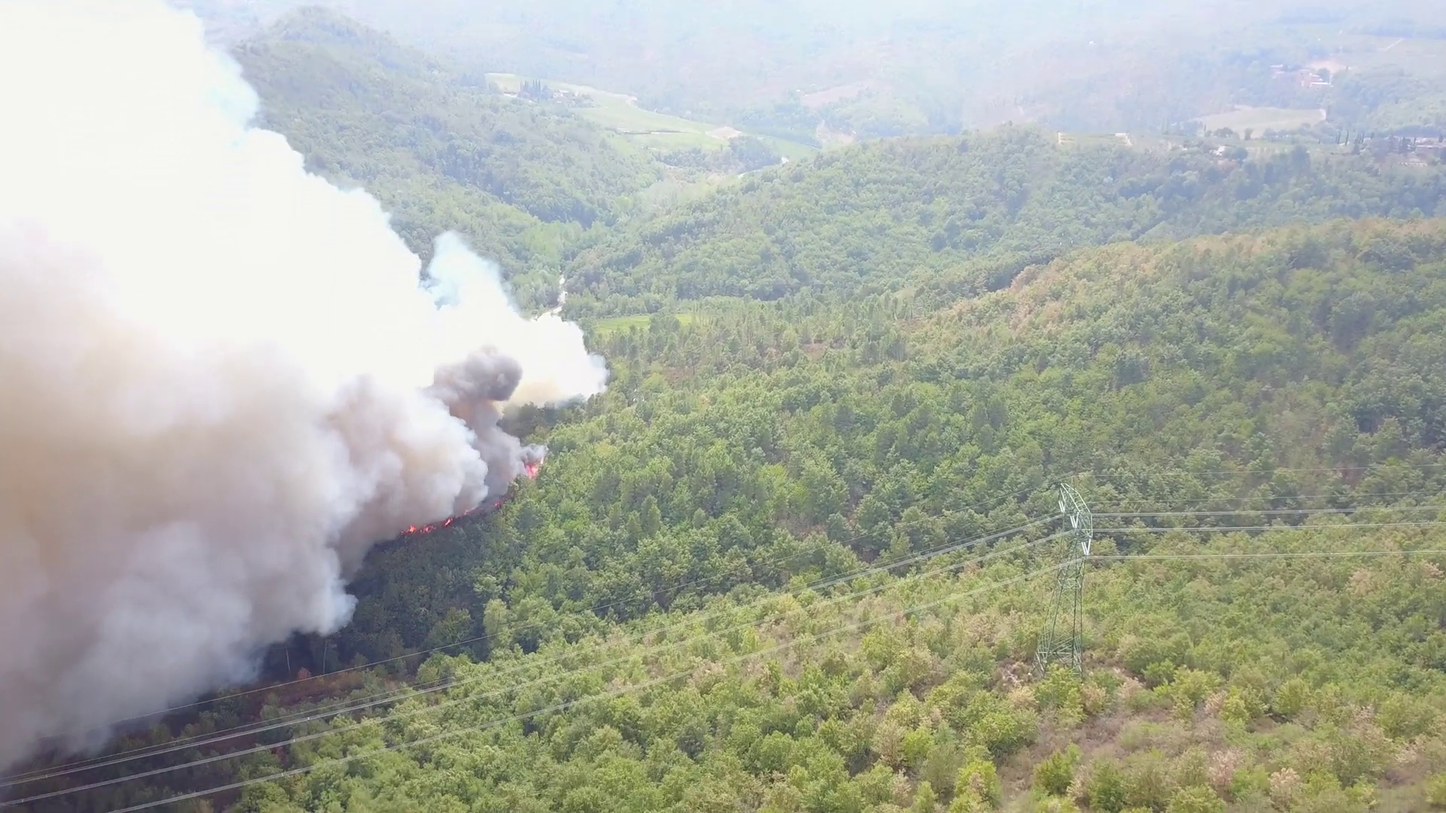forest_fire: (401, 490, 511, 536), (524, 458, 542, 479)
